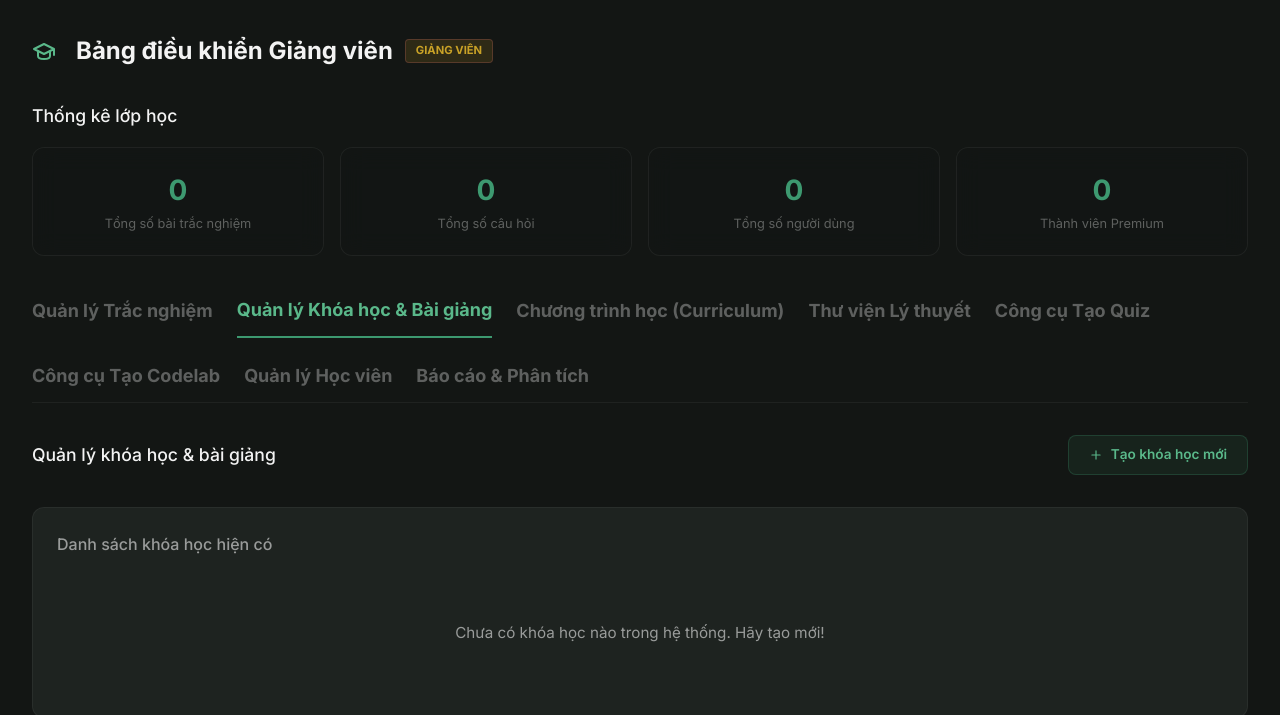
it: TeacherPanelView — P0 Tests › Quiz Creation Form › shows quiz form when "Tạo trắc nghiệm thủ công" is clicked
Click the tab "Quản lý Trắc nghiệm".
click(122, 317)  # box 32,296 -> 213,338
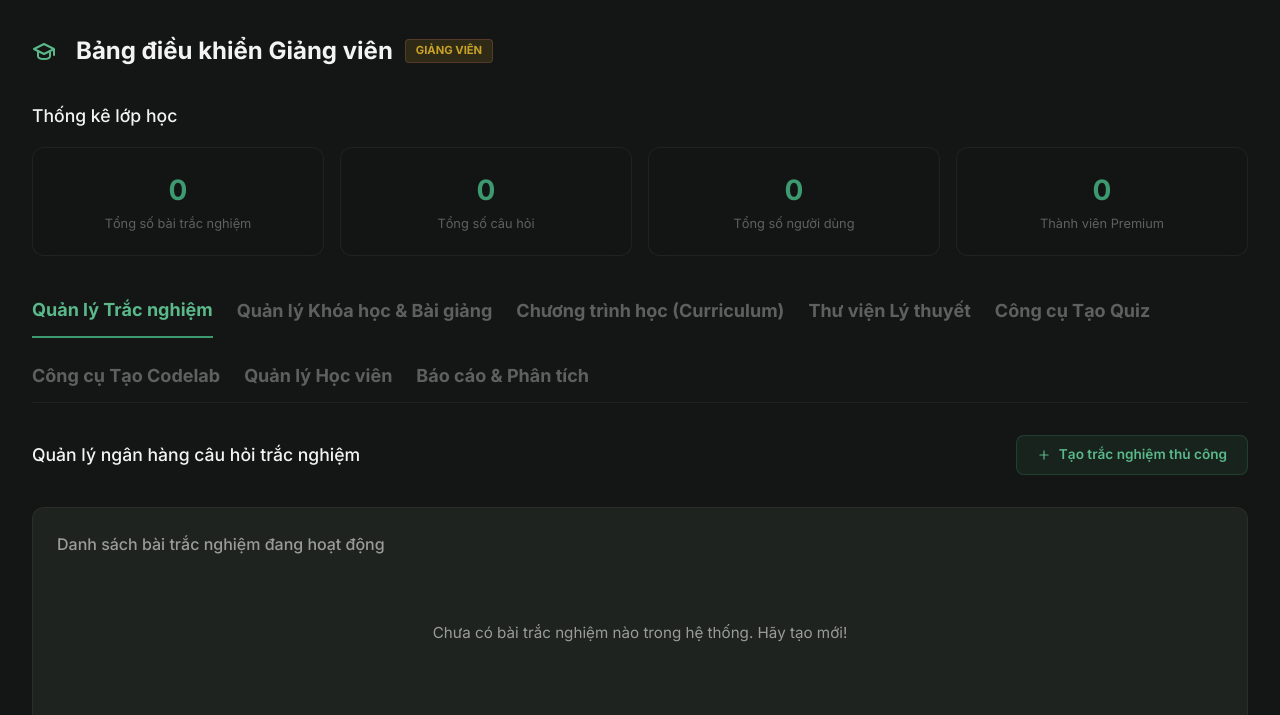
Click the button with class "btn-toggle-form".
click(1132, 455)  # box 1016,435 -> 1248,475
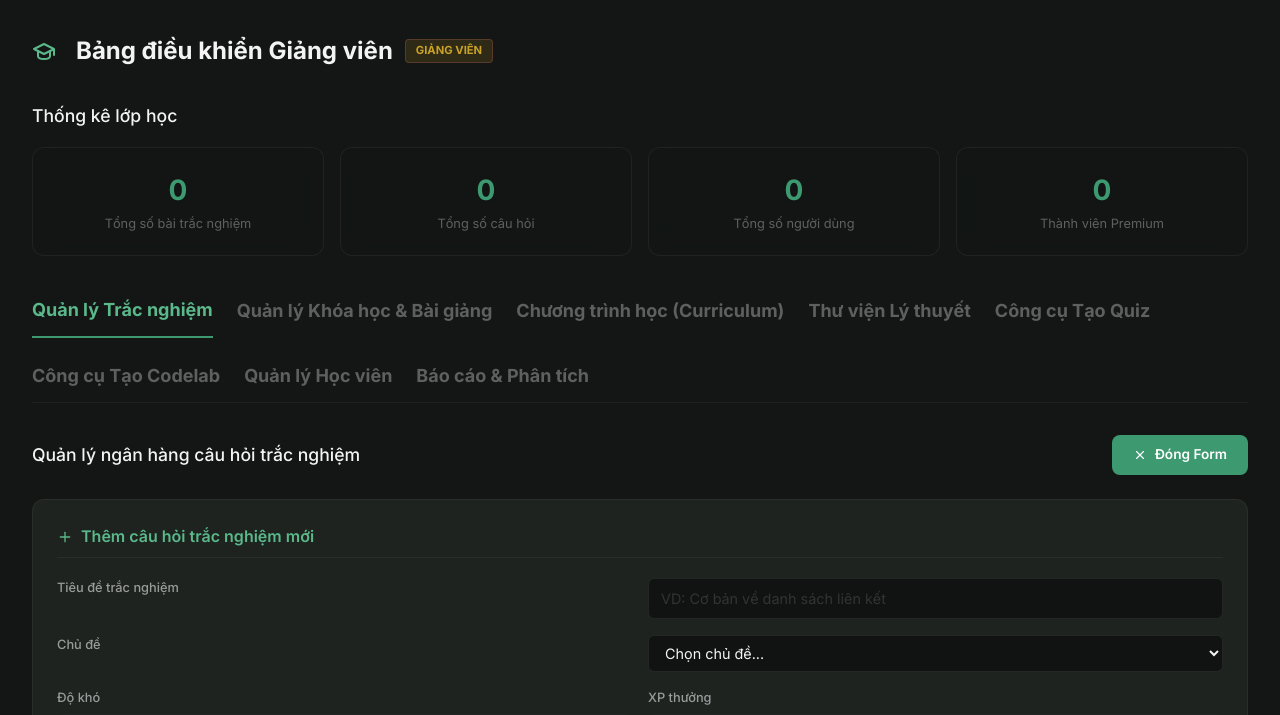
Expected: the text "Thêm câu hỏi trắc nghiệm mới" is shown, 57,526 -> 314,546
